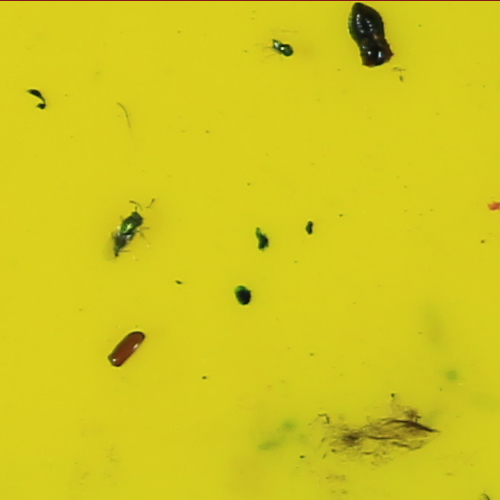wasp: (109, 208, 147, 256)
